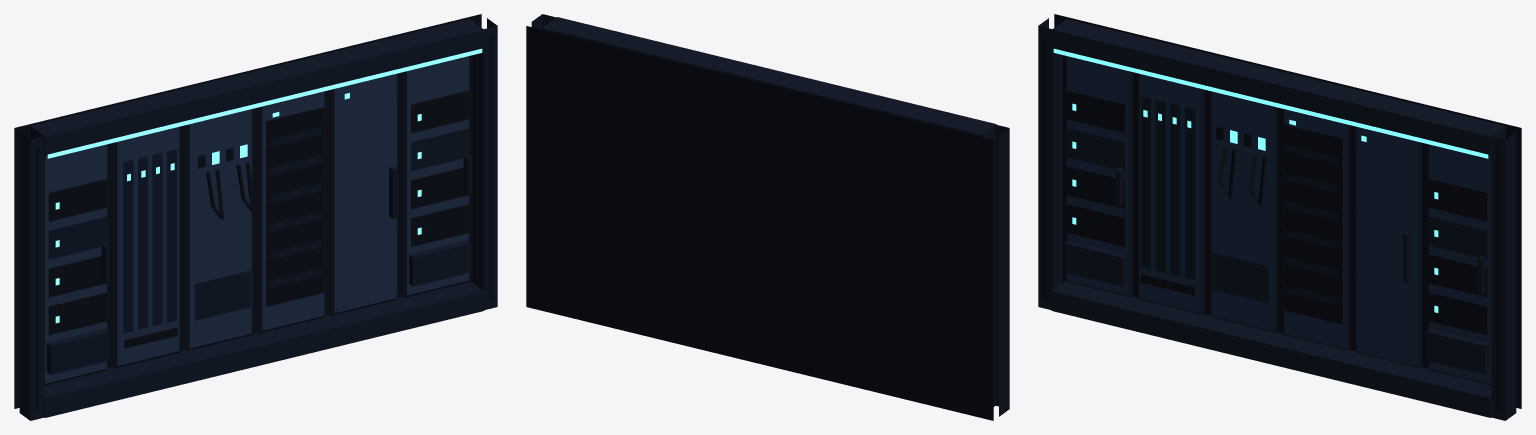
Rendered from RackFacade_V01.fbx.
3 views of the same model, side by side, from view 1: azimuth 30°, elevation 25°; view 2: azimuth 150°, elevation 25°; view 3: azimuth 330°, elevation 25° (orthographic).
Parts seen in each view (by area): view 1: KIT_RackFacade_V01_Mesh; view 2: KIT_RackFacade_V01_Mesh; view 3: KIT_RackFacade_V01_Mesh.
Part boxes in pixels (box(x1,y1,x2,y2)): KIT_RackFacade_V01_Mesh: box(14, 14, 497, 420); KIT_RackFacade_V01_Mesh: box(526, 14, 1009, 420); KIT_RackFacade_V01_Mesh: box(1038, 14, 1521, 420).
Bounding box in the file's own units: 4 × 2.3 × 0.2645.
